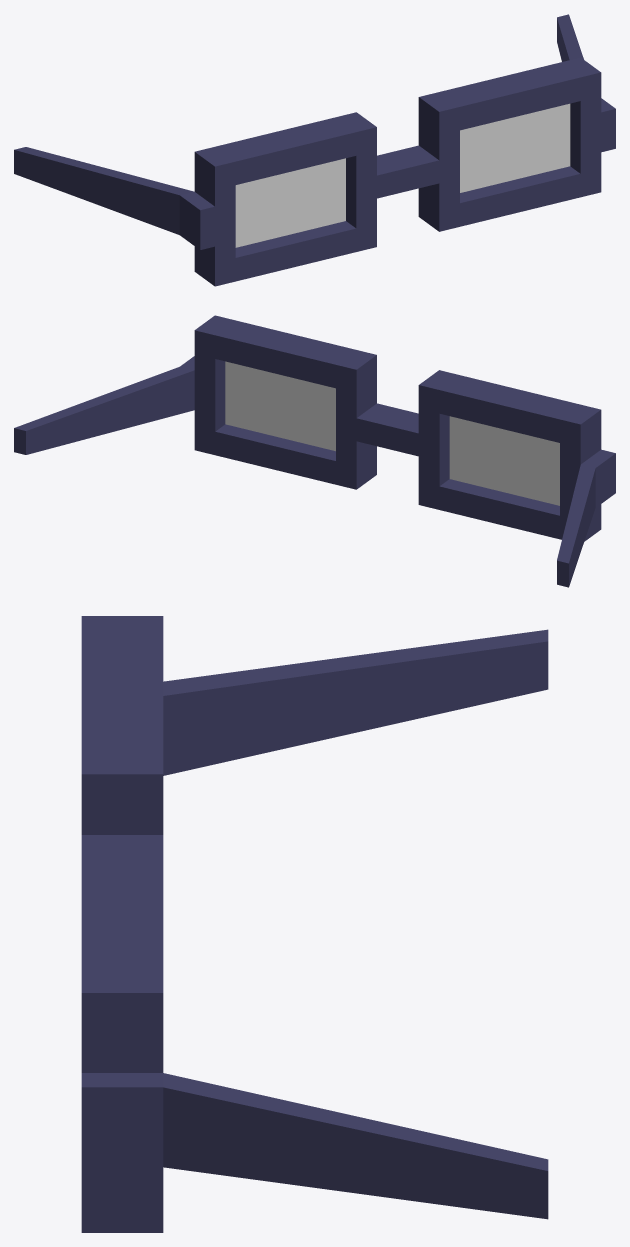
Rendered from glasses.fbx.
3 views of the same model, one above another, from view 1: azimuth 30°, elevation 25°; view 2: azimuth 150°, elevation 25°; view 3: azimuth 270°, elevation 25° (orthographic). The views are drawn at different scales.
Visible parts, largest first — view 1: Glasses; view 2: Glasses; view 3: Glasses.
Part boxes in pixels (bbox=[...]): Glasses: bbox=[14, 14, 615, 286]; Glasses: bbox=[14, 315, 615, 587]; Glasses: bbox=[81, 616, 548, 1232].
Size of the model in its own units: 1.31 by 0.2702 by 0.4763.
2 materials, 1 textured.
